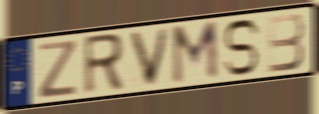B: (266, 11, 307, 75)
M: (170, 18, 221, 88)
R: (81, 31, 126, 98)
S: (221, 18, 262, 78)
V: (126, 25, 173, 90)
Z: (37, 38, 79, 101)
